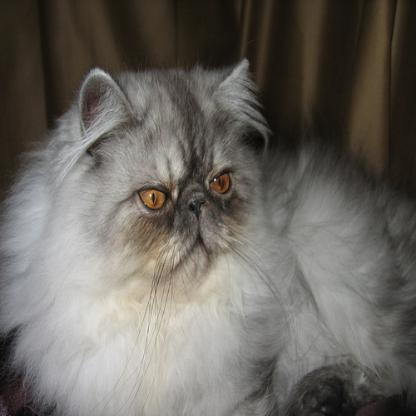cat: (0, 56, 415, 415)
